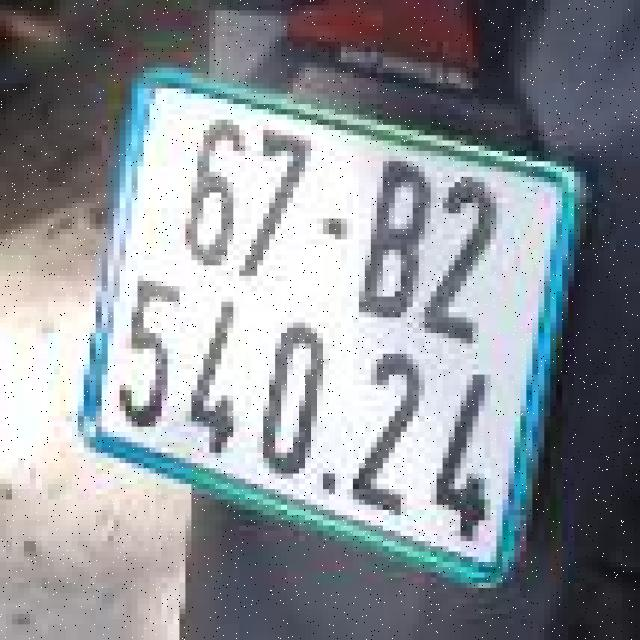0: (238, 310, 337, 493)
2: (409, 163, 518, 364), (339, 339, 442, 529)
4: (417, 359, 520, 558), (167, 291, 275, 474)
5: (104, 267, 196, 443)
6: (163, 111, 266, 278)
7: (217, 118, 332, 300)
B: (347, 144, 450, 334)
